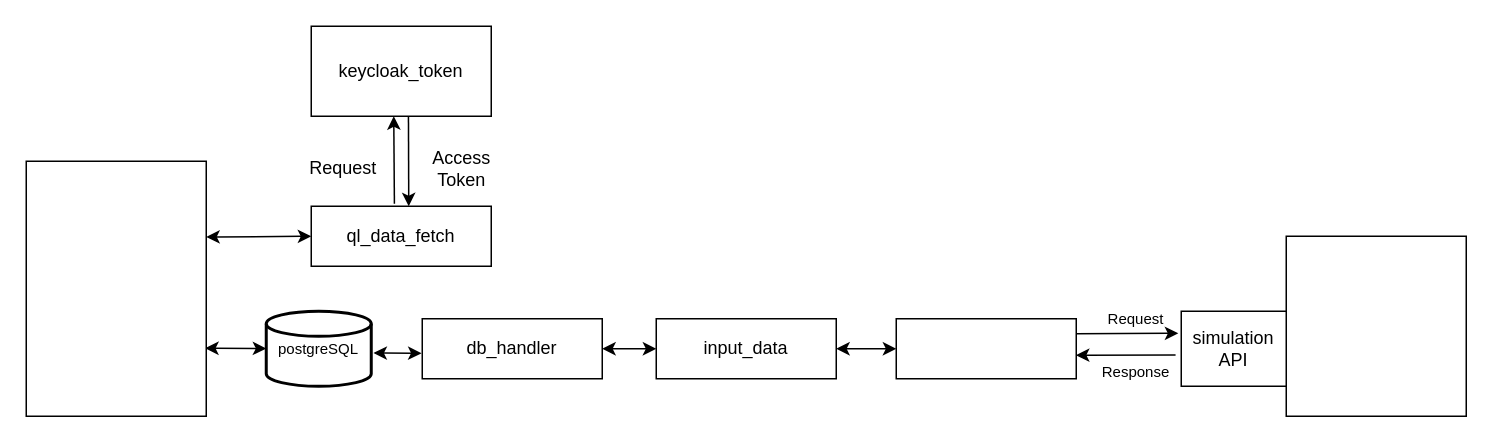
Some shapes in this 1493 by 443 pixel diagram are drawn without their labels. Each missing label, with the box of its shape:
Data Layer: (25, 160, 206, 416)
request_to_api: (895, 317, 1076, 379)
Simulation Model: (1285, 235, 1466, 416)
